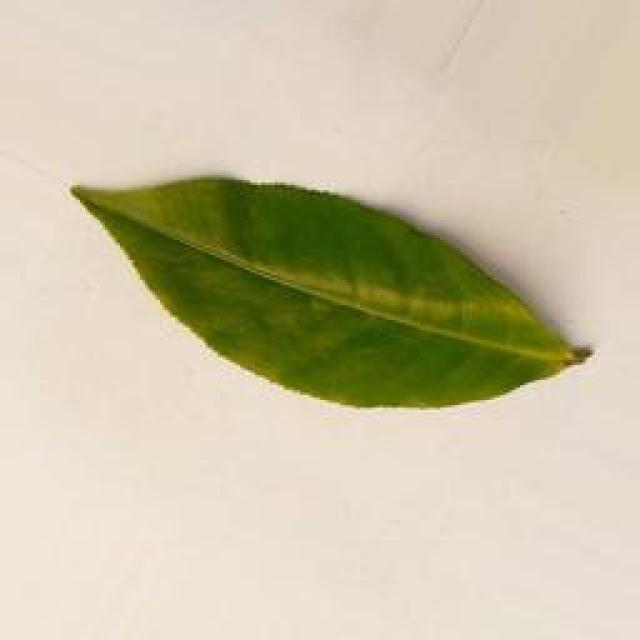Healthy: (64, 166, 604, 422)
